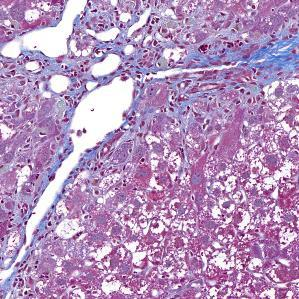fibrosis: (137, 33, 266, 118)
